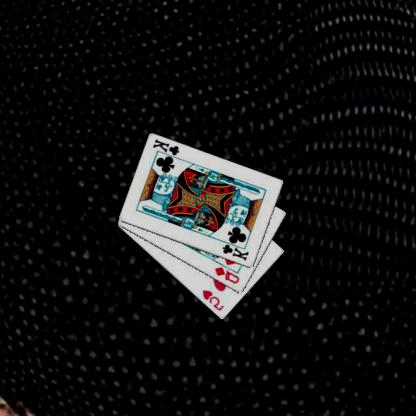5H: (202, 288, 228, 312)
KC: (152, 137, 184, 161), (221, 238, 252, 262)
QD: (214, 264, 243, 285)
